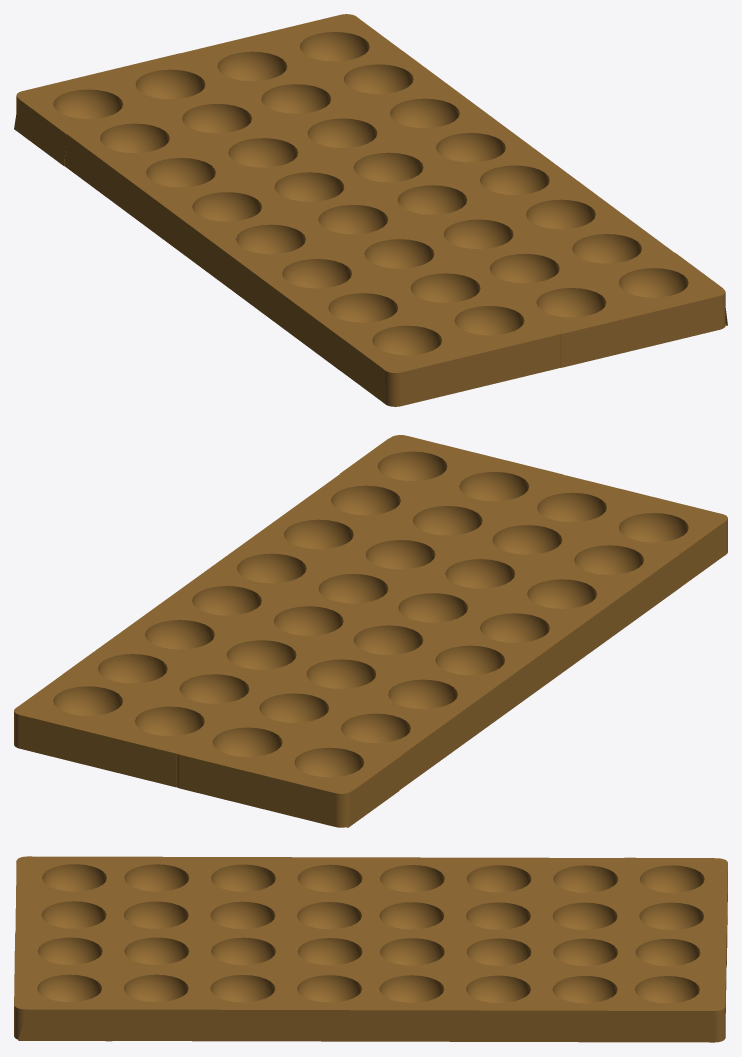
File: BaoBoardComplete.obj
The picture shows the model from 3 angles, top to bottom: view 1: azimuth 30°, elevation 25°; view 2: azimuth 150°, elevation 25°; view 3: azimuth 270°, elevation 25°; orthographic projection. The views are drawn at different scales.
Parts seen in each view (by area): view 1: mancala.002; view 2: mancala.002; view 3: mancala.002.
Boxes of the visible parts, box(x1,y1,x2,y2) form: mancala.002: box(14, 14, 727, 406); mancala.002: box(14, 435, 727, 827); mancala.002: box(14, 856, 727, 1042).
Size of the model in its own units: 16.89 by 1.6 by 32.96.
